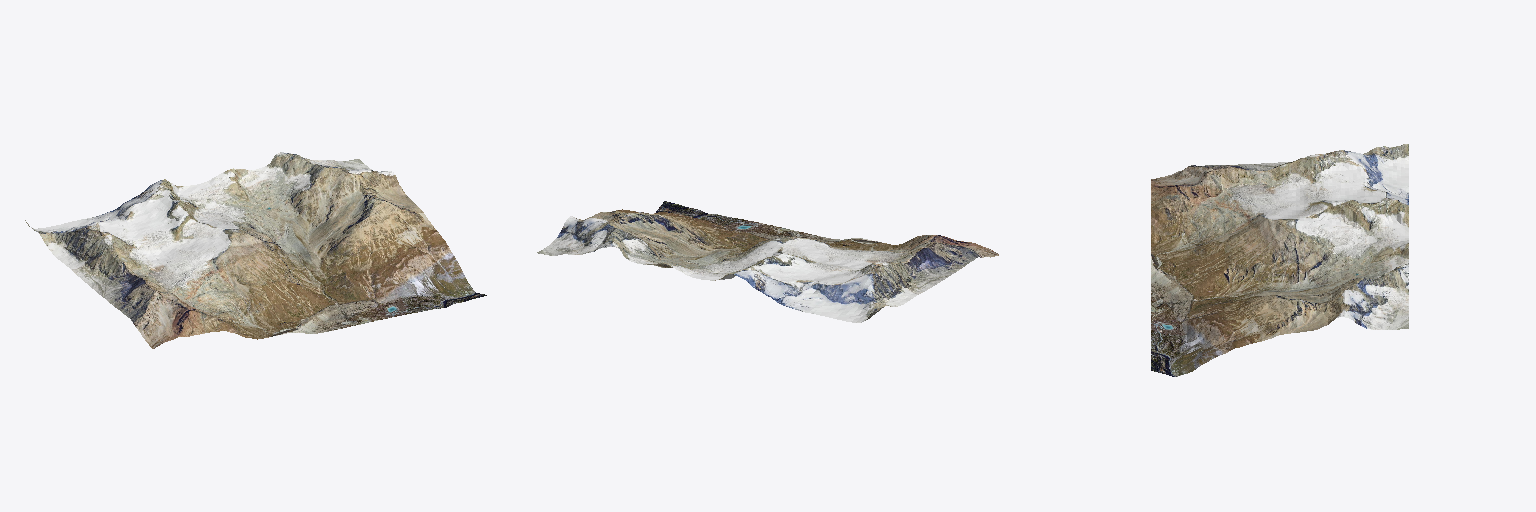
3 renders of one model, left to right at view 1: azimuth 30°, elevation 25°; view 2: azimuth 150°, elevation 25°; view 3: azimuth 270°, elevation 25°, orthographic.
Visible parts, largest first — view 1: EXPORT_GOOGLE_SAT_WM.021; view 2: EXPORT_GOOGLE_SAT_WM.021; view 3: EXPORT_GOOGLE_SAT_WM.021.
Boxes of the visible parts, box(x1,y1,x2,y2) form: EXPORT_GOOGLE_SAT_WM.021: box(25, 152, 486, 348); EXPORT_GOOGLE_SAT_WM.021: box(537, 201, 998, 322); EXPORT_GOOGLE_SAT_WM.021: box(1151, 144, 1408, 376).
Bounding box in the file's own units: 9124 × 2041 × 6083.
Materials: 1 (1 with a texture image).